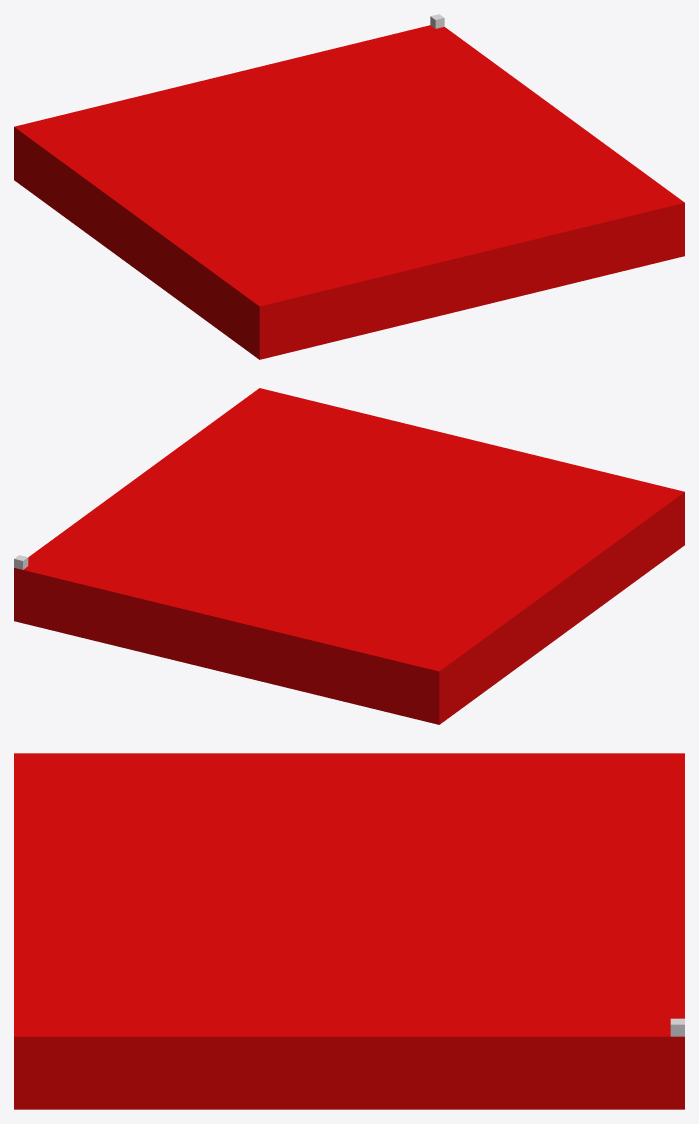
The model's file is 1corner.glb.
3 renders of one model, top to bottom at view 1: azimuth 30°, elevation 25°; view 2: azimuth 150°, elevation 25°; view 3: azimuth 270°, elevation 25°, orthographic. The views are drawn at different scales.
Parts seen in each view (by area): view 1: center.025; view 2: center.025; view 3: center.025.
Part boxes in pixels (bbox=[...]): center.025: bbox=[14, 25, 684, 359]; center.025: bbox=[14, 388, 684, 724]; center.025: bbox=[14, 753, 684, 1109].
Bounding box in the file's own units: 1 × 0.14 × 1.
